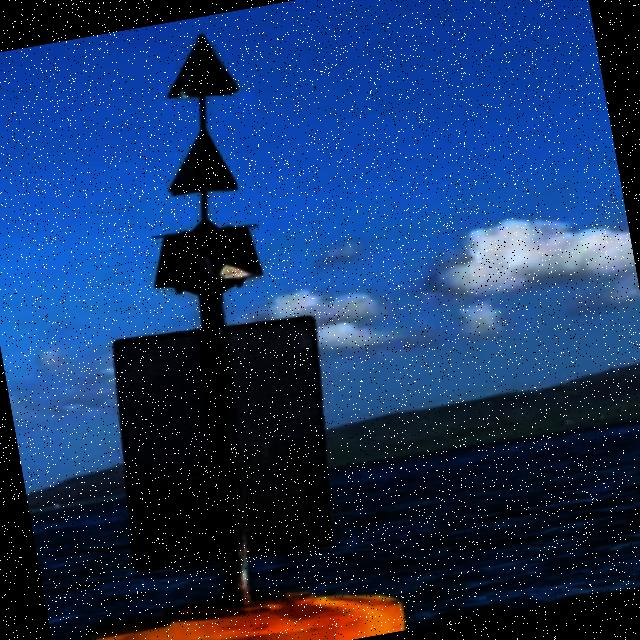marque: (1, 19, 421, 640)
